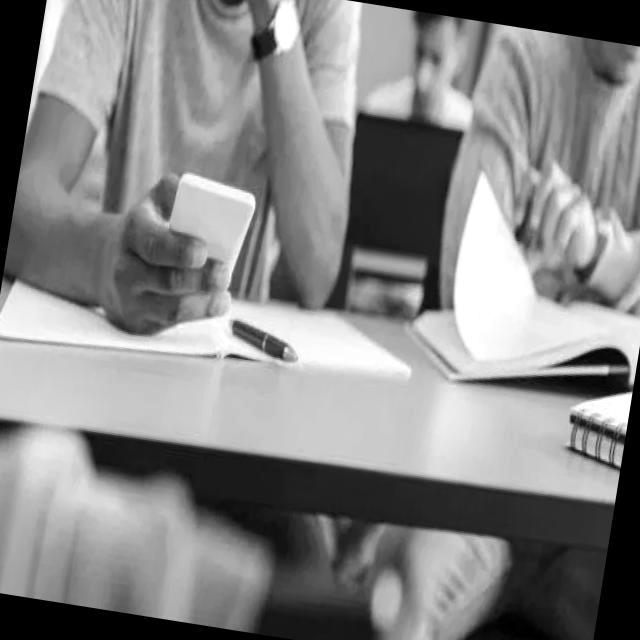phone: (160, 170, 258, 284)
